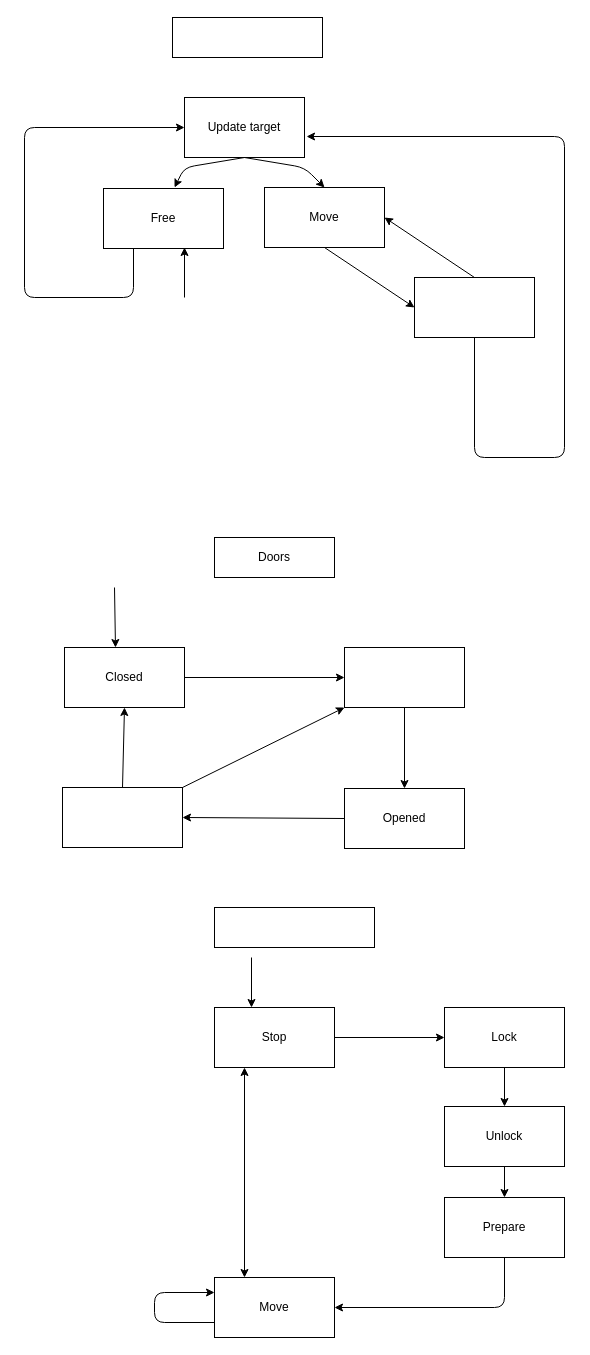
Some shapes in this 590 by 1355 pixel diagram are drawn without their labels. The box of each missing label's shape, as (x1, y1, x2, y2) in pixels:
Cabin: (214, 906, 374, 948)
Closing: (62, 786, 182, 848)
Controller: (172, 16, 322, 58)
Opening: (344, 646, 464, 708)
Reached target: (414, 276, 534, 338)
